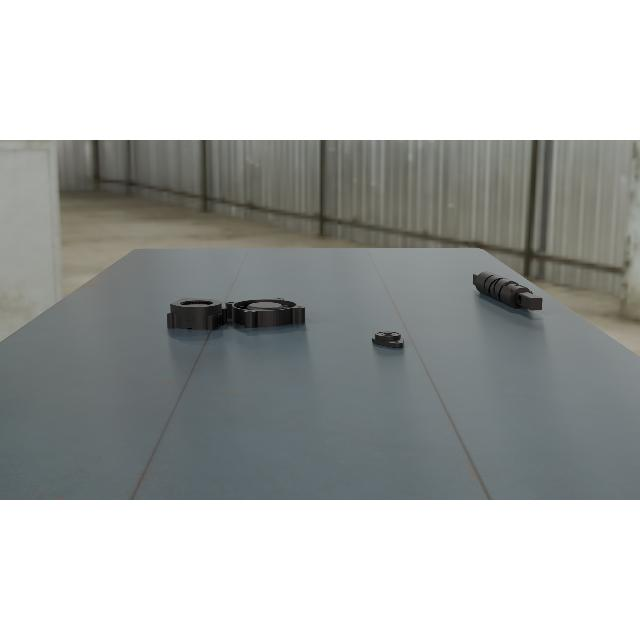Pieza1: (468, 268, 548, 316)
Pieza2: (362, 328, 413, 348)
Pieza3: (166, 298, 230, 332)
Pieza4: (224, 298, 308, 330)
